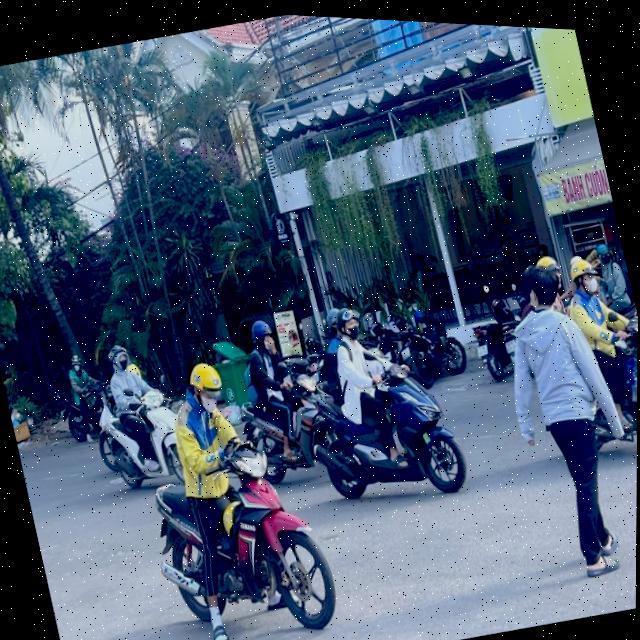motorcycle: (134, 424, 348, 640), (277, 316, 477, 526), (82, 382, 190, 502), (598, 289, 638, 444), (466, 314, 519, 387)
